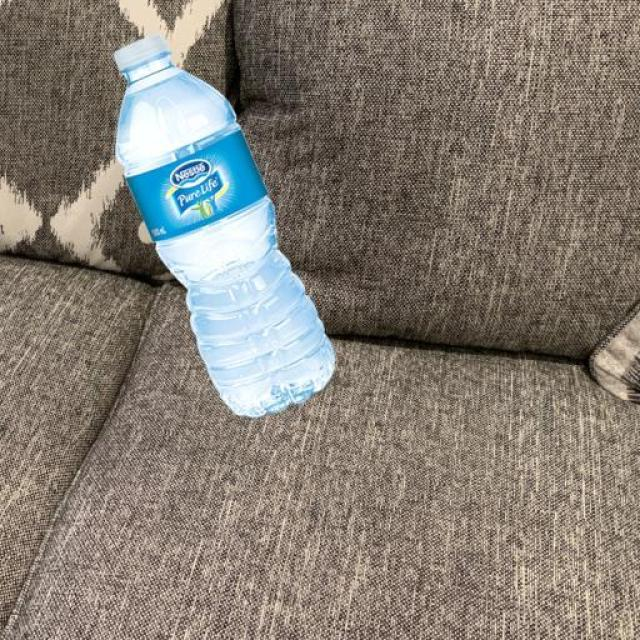bottle: (109, 26, 343, 414)
